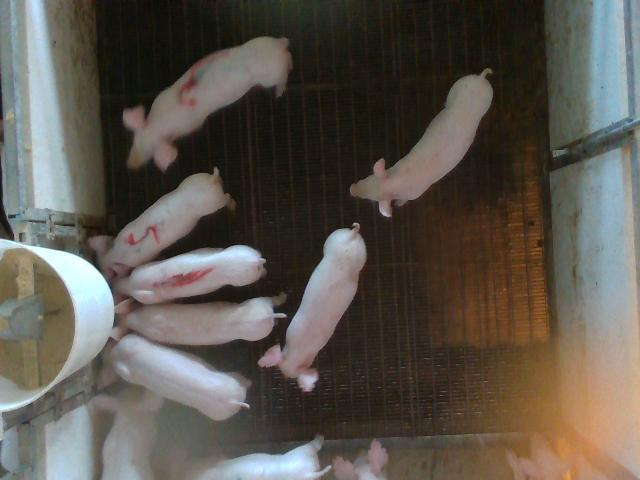pig-1: (114, 245, 265, 304)
pig-3: (124, 36, 292, 169)
pig-5: (89, 168, 235, 278)
